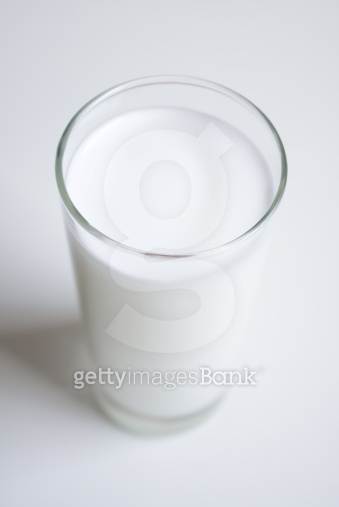glass of milk: (50, 67, 295, 446)
